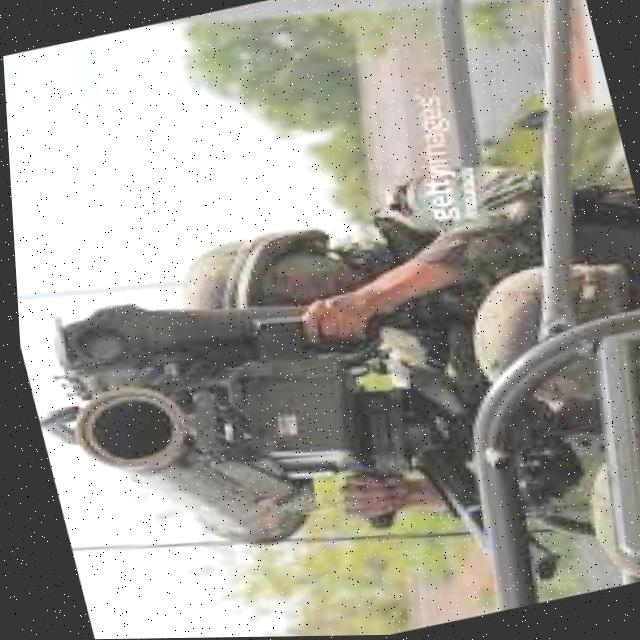rocket: (34, 350, 325, 586)
